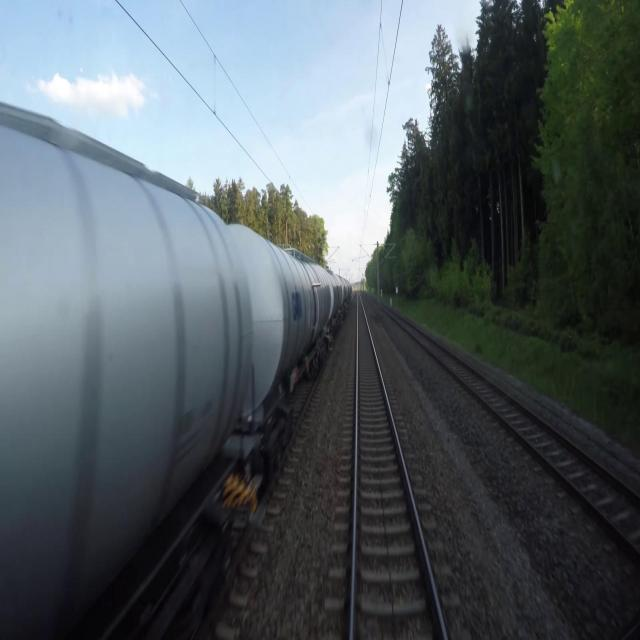rail-track: (382, 306, 640, 548), (354, 294, 443, 639)
